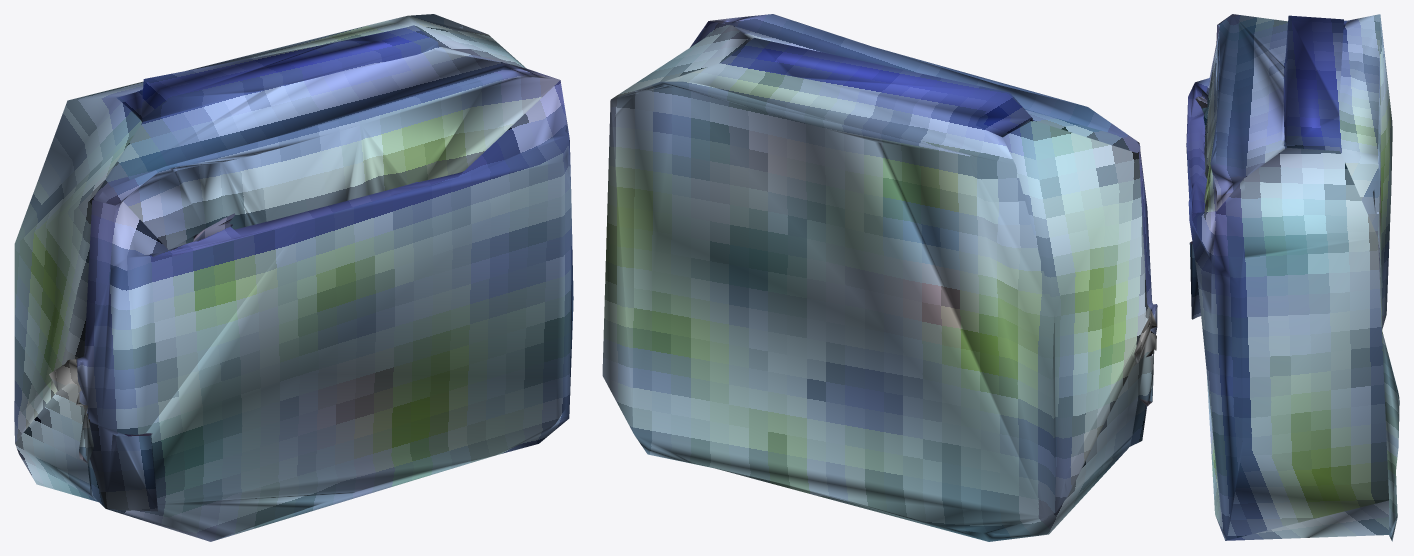
Rendered from Olive_Kids_Dinosaur_Land_Lunch_Box-low.glb.
3 renders of one model, left to right at view 1: azimuth 30°, elevation 25°; view 2: azimuth 150°, elevation 25°; view 3: azimuth 270°, elevation 25°, orthographic. The views are drawn at different scales.
Visible parts, largest first — view 1: Olive_Kids_Dinosaur_Land_Lunch_Box; view 2: Olive_Kids_Dinosaur_Land_Lunch_Box; view 3: Olive_Kids_Dinosaur_Land_Lunch_Box.
Boxes of the visible parts, <box> form: Olive_Kids_Dinosaur_Land_Lunch_Box: <box>14,14,573,541</box>; Olive_Kids_Dinosaur_Land_Lunch_Box: <box>602,14,1157,541</box>; Olive_Kids_Dinosaur_Land_Lunch_Box: <box>1186,14,1399,541</box>.
Size of the model in its own units: 0.2557 by 0.2016 by 0.1008.
Materials: 1 (1 with a texture image).
